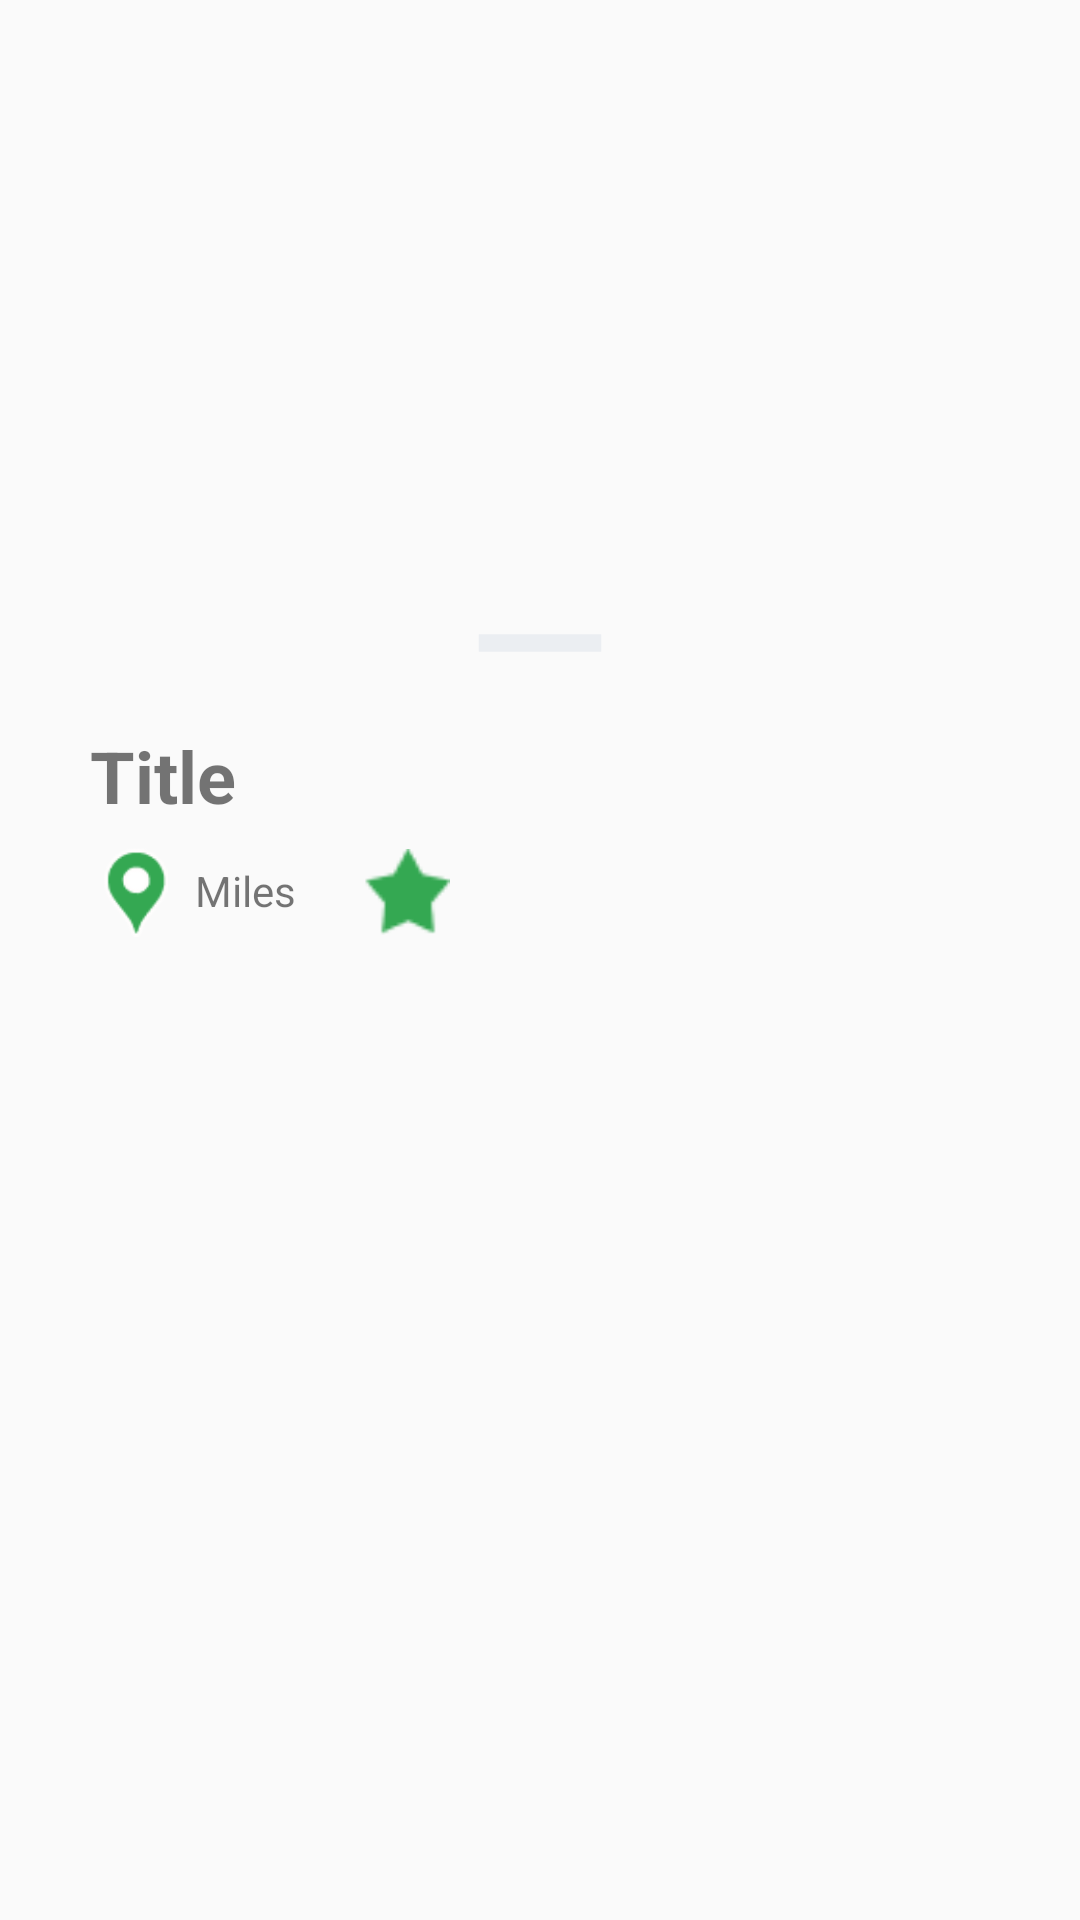

Named icons in this screenshot (1080w x 1920h) and their centers, (x=x, y=y):
mark: (x=137, y=893)
star: (x=407, y=891)
